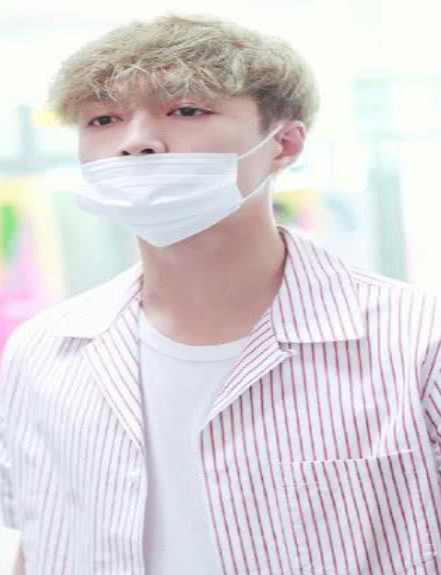mask_weared_incorrect: (70, 97, 264, 251)
